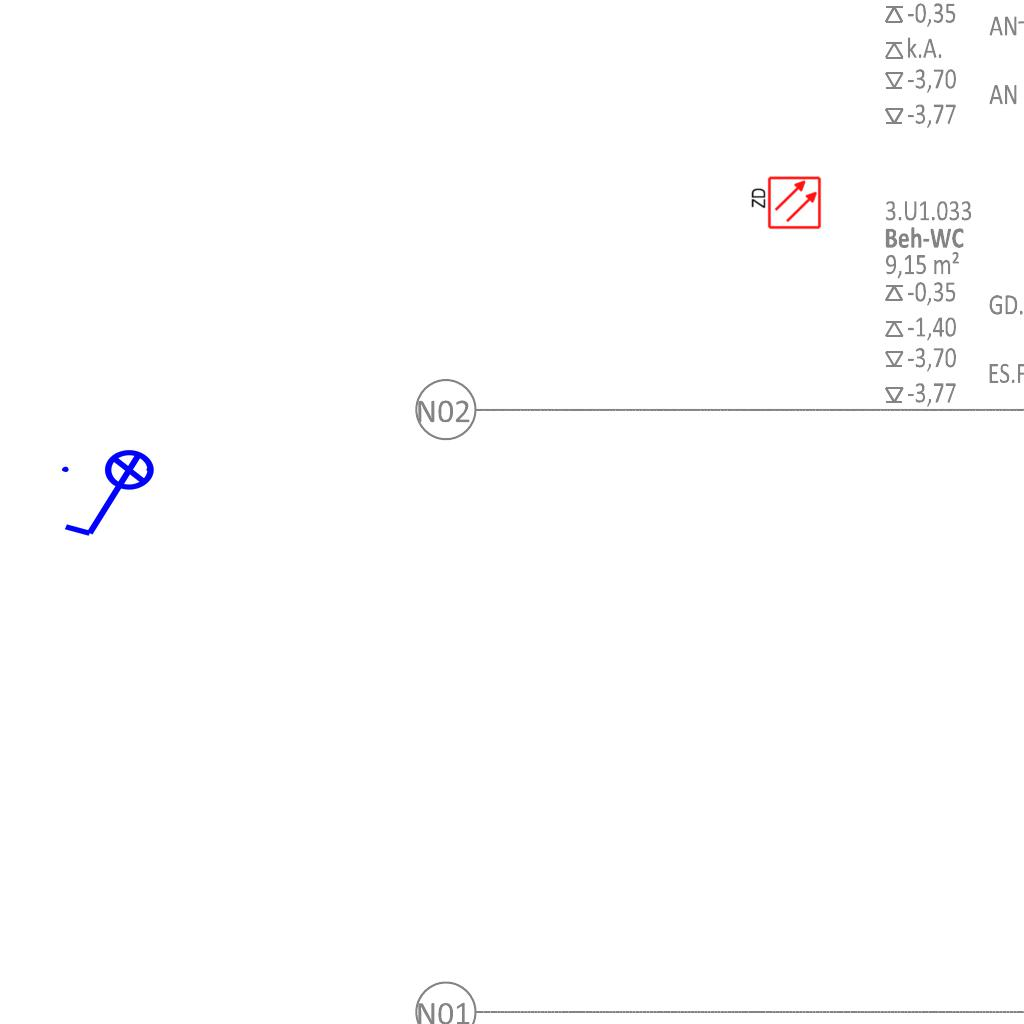Ausschalter_beleuchtet: (56, 448, 168, 544)
ZD_Melder_in_Zwischendecke_mit_Revisionsoeffnung_mind_40_x_40_cm: (748, 175, 822, 232)
